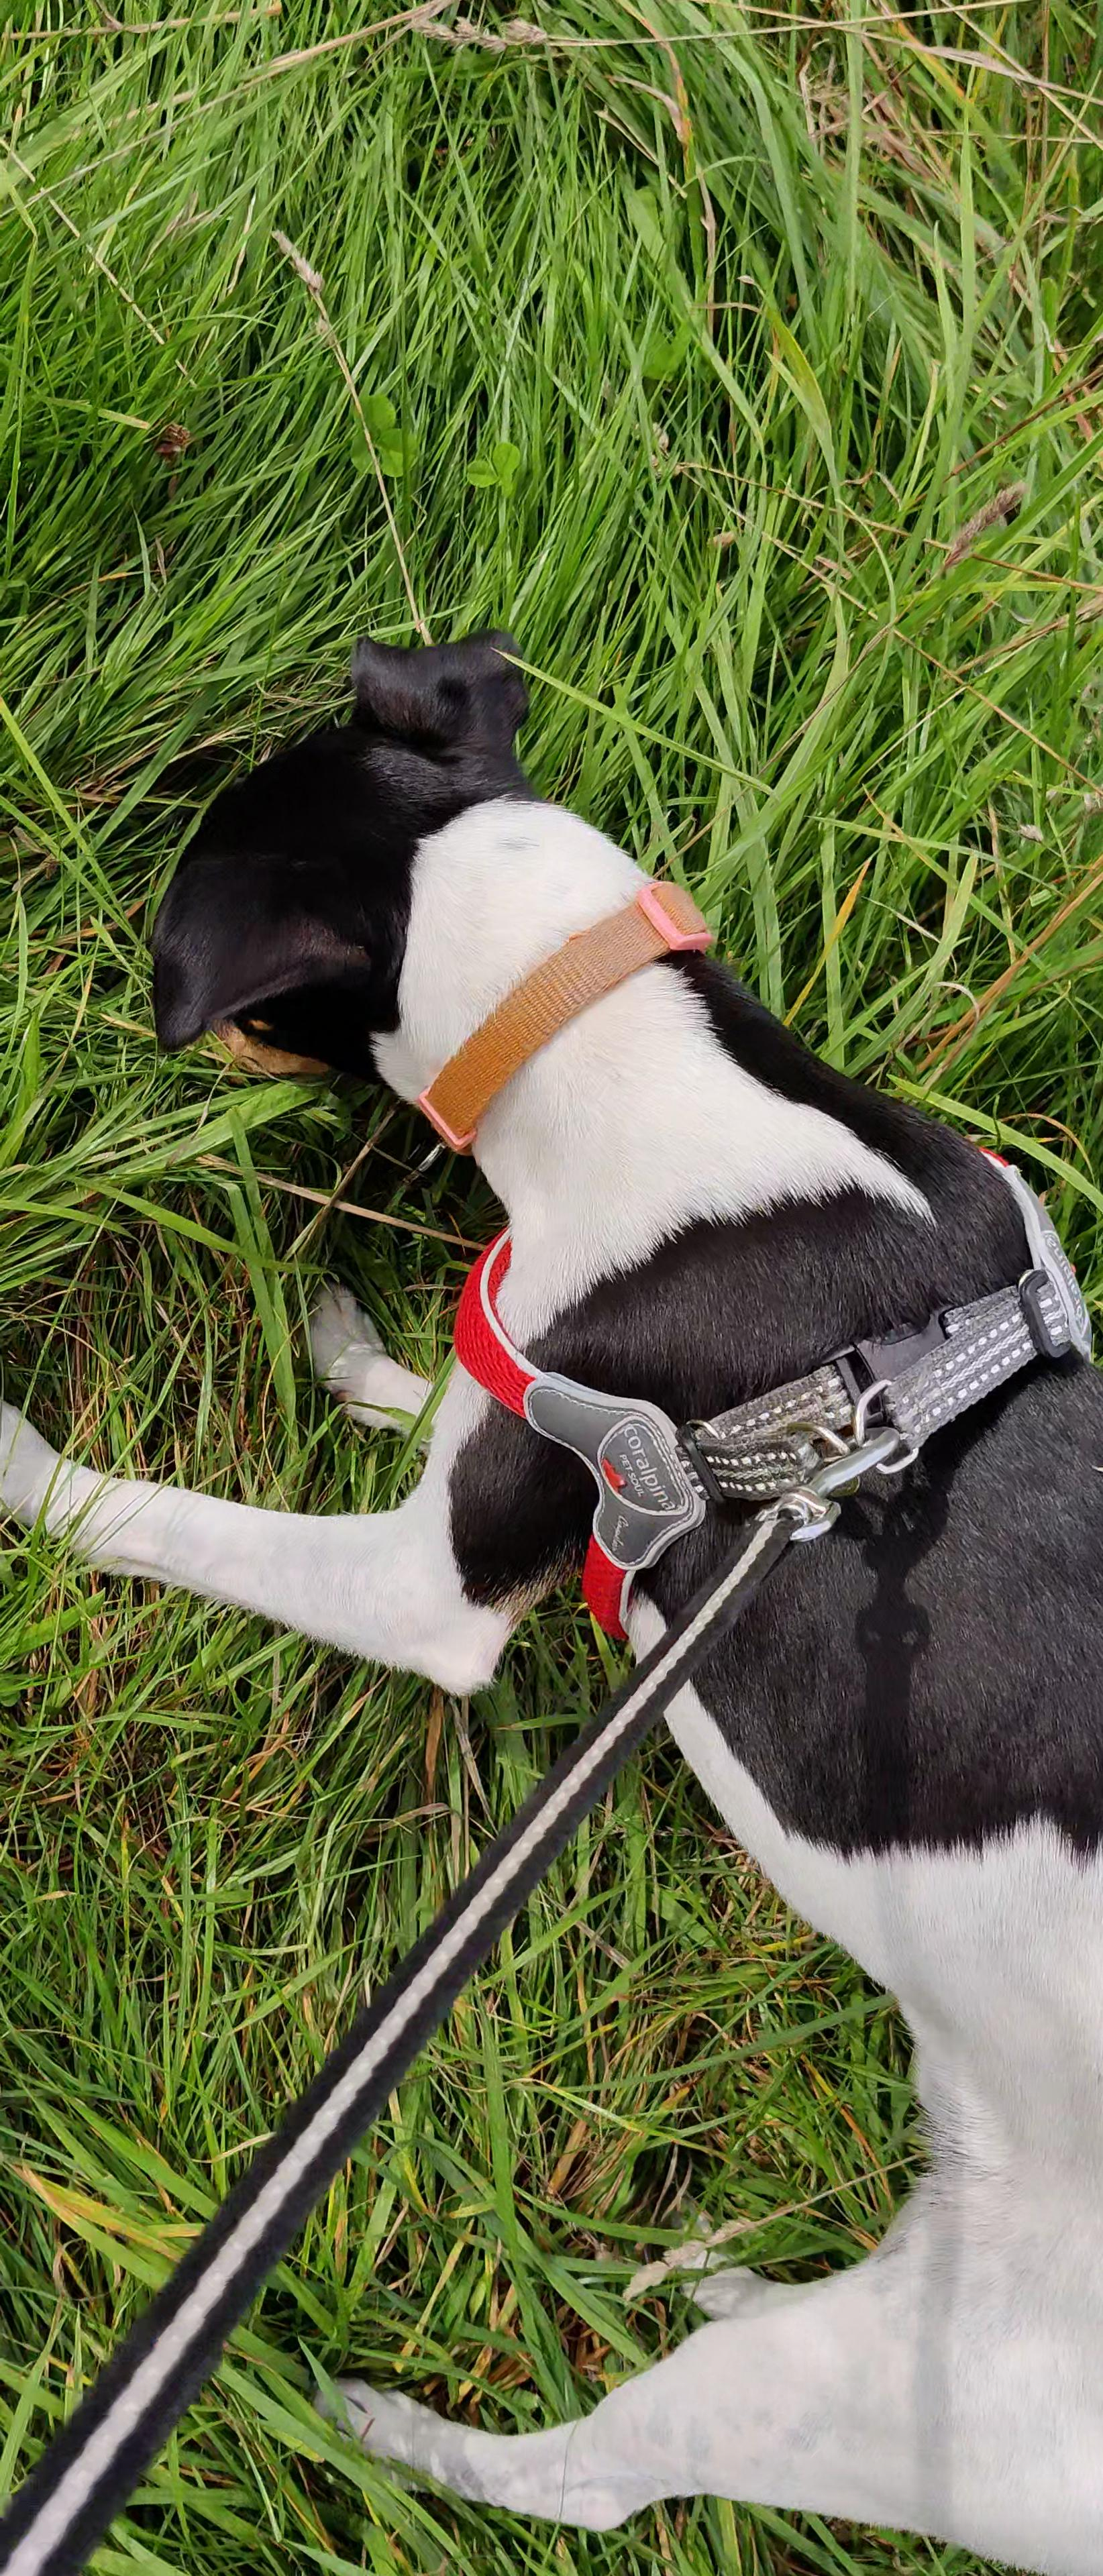Dog: (0, 598, 1103, 2576)
